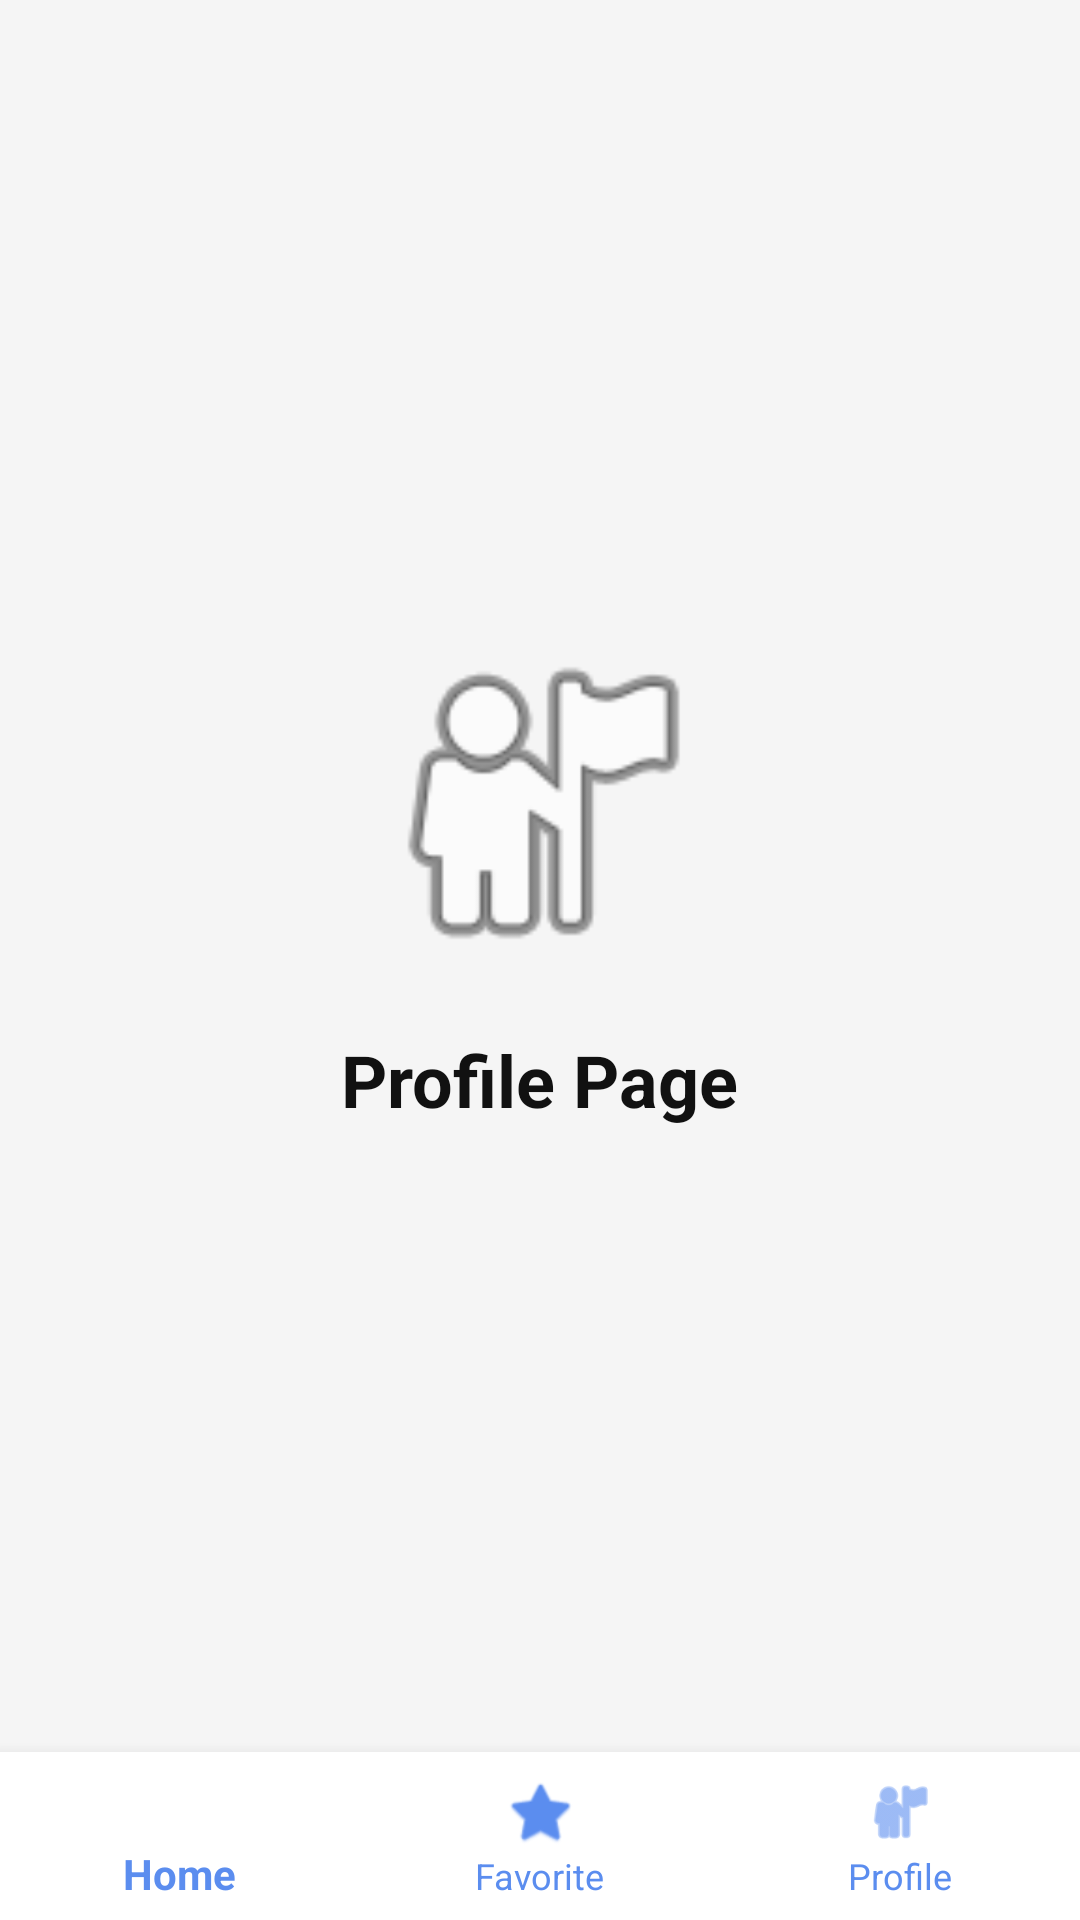

Locate icon controls on the screen. Image size 1080*1920, boxes as rect(x1, y1, x2, y2).
myplaces: rect(408, 668, 679, 938)
